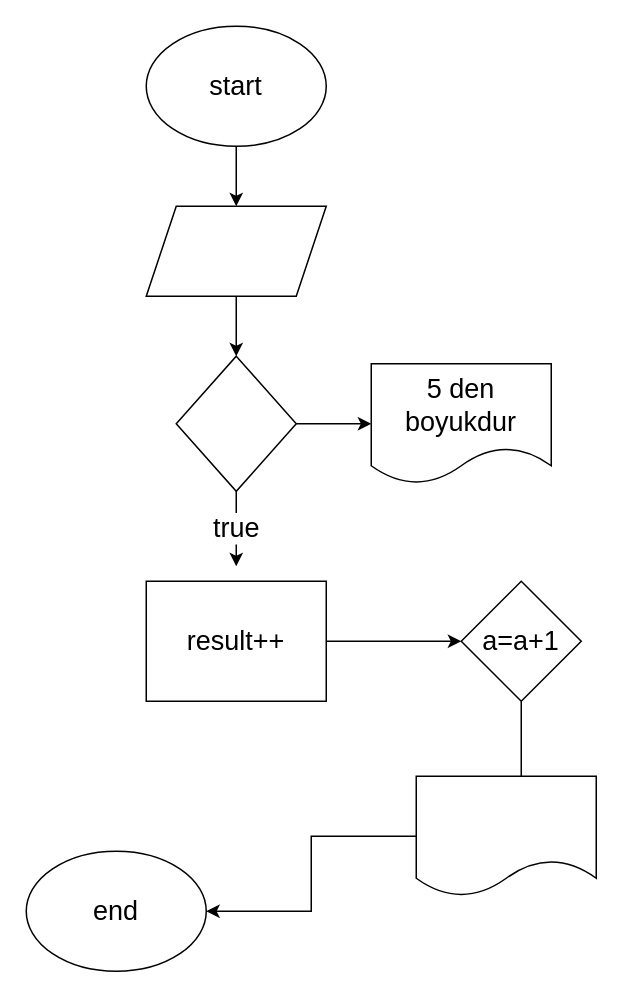
This 623x998 diagram has some shape labels left out. Each missing label, with the centre of its shape:
a,result=0 carpe diam: the point at 235,250
a<5: the point at 235,423
carpe diam: the point at 505,835
